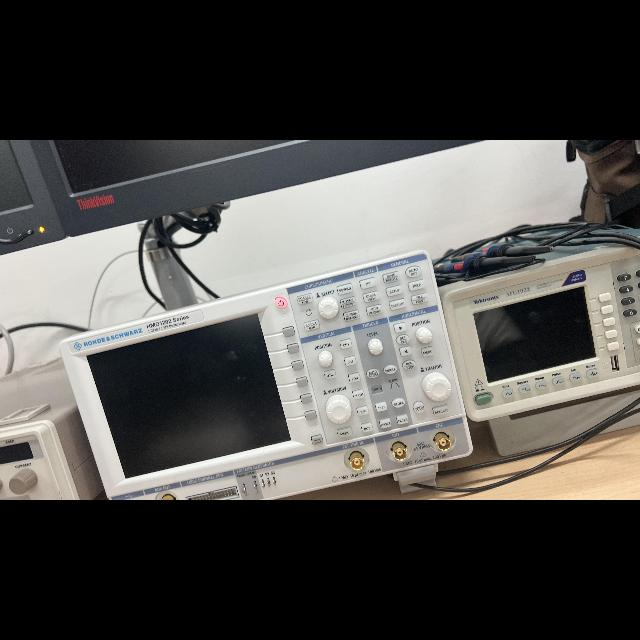Digital-Oscilloscope: (60, 250, 472, 500)
